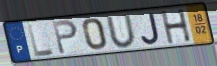0: (81, 17, 109, 51)
H: (159, 8, 193, 46)
J: (140, 11, 162, 46)
L: (26, 22, 56, 59)
P: (51, 18, 80, 56)
U: (104, 13, 139, 49)
